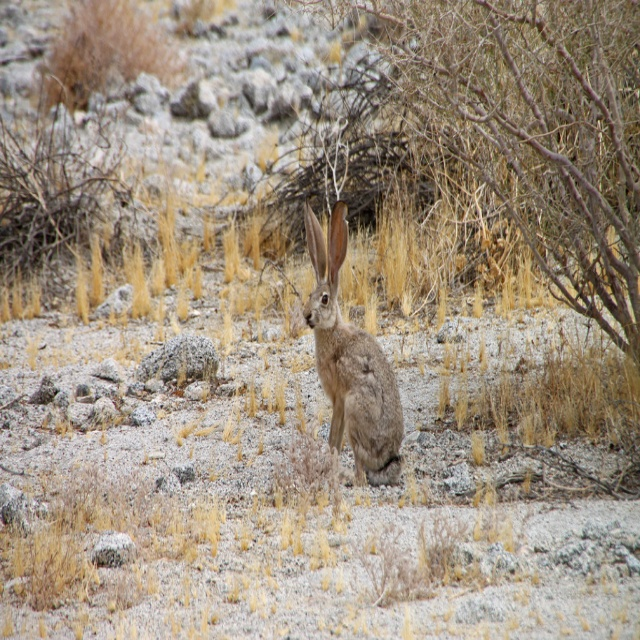Rabbit: (302, 198, 404, 487)
